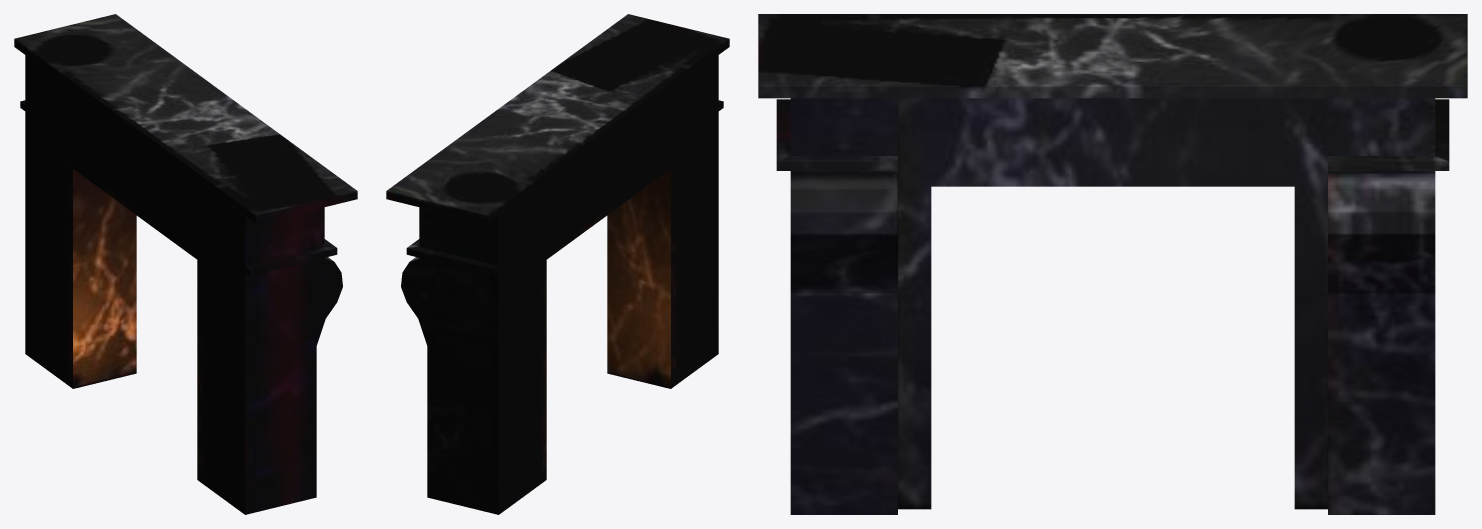
The model's file is chimney.glb.
3 views of the same model, side by side, from view 1: azimuth 30°, elevation 25°; view 2: azimuth 150°, elevation 25°; view 3: azimuth 270°, elevation 25° (orthographic). The views are drawn at different scales.
Visible parts, largest first — view 1: chimney; view 2: chimney; view 3: chimney.
Boxes of the visible parts, x1=… form: chimney: x1=14, y1=14, x2=357, y2=514; chimney: x1=386, y1=14, x2=729, y2=514; chimney: x1=758, y1=14, x2=1467, y2=514.
Size of the model in its own units: 2.46 by 7.1 by 10.14.
Materials: 1 (1 with a texture image).
